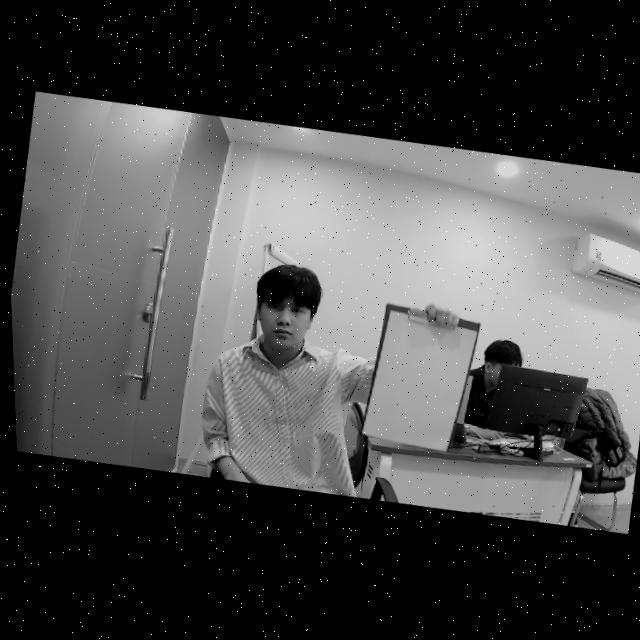face: (254, 276, 318, 354)
